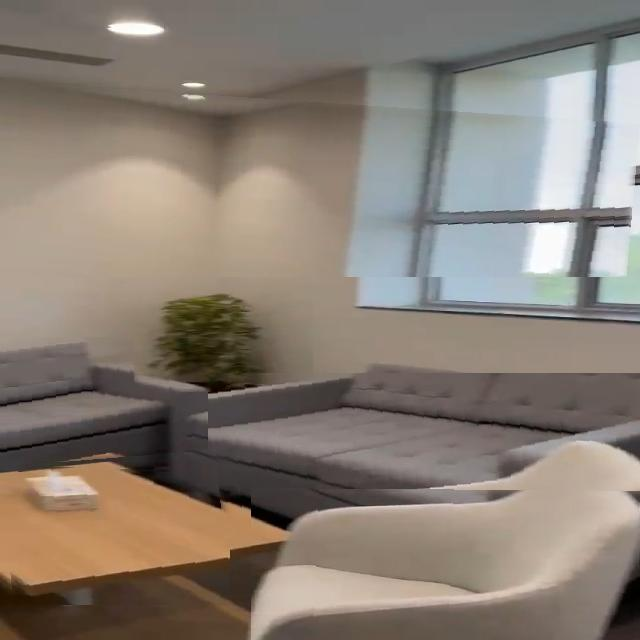furniture: (209, 373, 640, 538), (251, 488, 640, 640), (0, 465, 230, 605), (0, 337, 208, 467), (128, 284, 313, 393)
wall: (0, 81, 640, 278)
